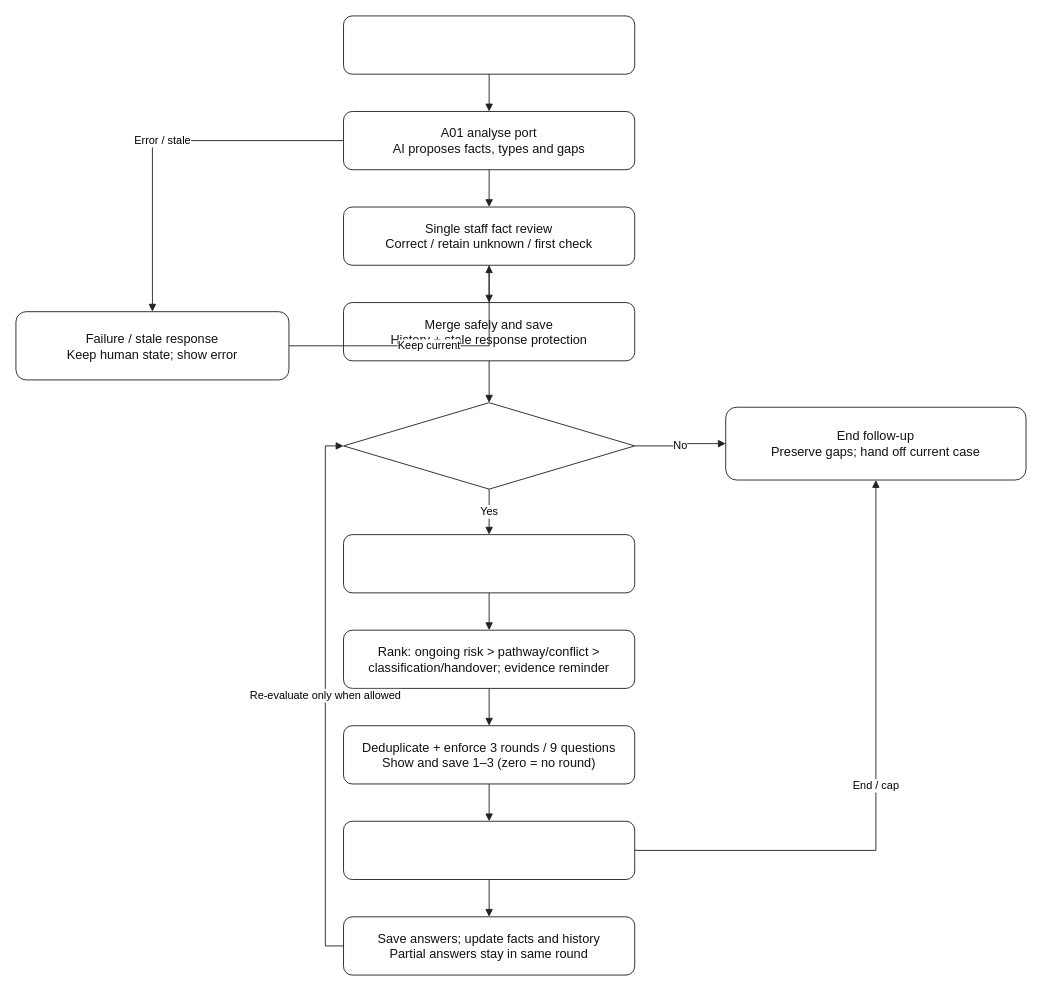
The diagram is 1042 pixels wide and 991 high, and some of its shapes have lost their labels. The centre of each missing label's shape, as x and y in pixels:
"Any meaningful unresolved gap?" belongs at [489,445].
"Generate targeted candidates Field + record ID + reason" belongs at [489,563].
"Original caller narrative (text) Preserve source and wording" belongs at [489,44].
"Staff: answer / unknown / unable / N/A or end (unanswered = skipped)" belongs at [489,850].
